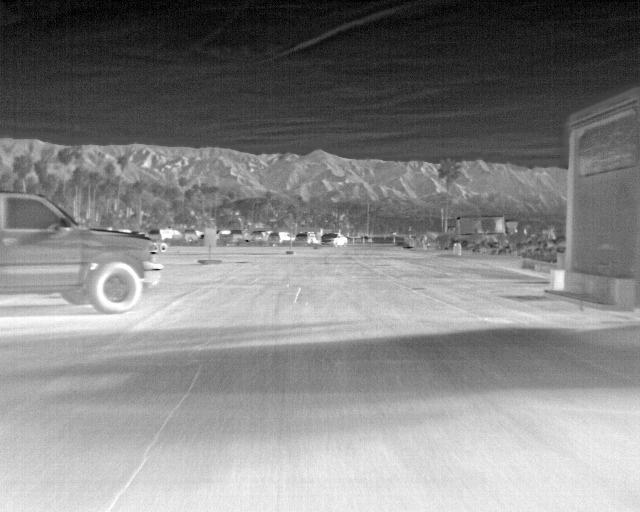car: (0, 190, 163, 315), (268, 229, 291, 246), (321, 232, 348, 246), (221, 227, 243, 244), (245, 229, 267, 245), (292, 229, 314, 244), (179, 227, 199, 242)
